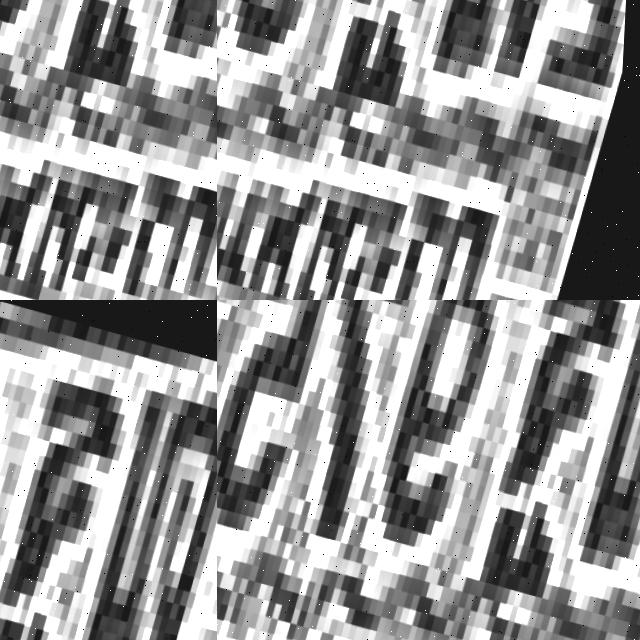license-plate: (217, 300, 640, 640), (217, 0, 629, 300), (0, 0, 217, 300)
